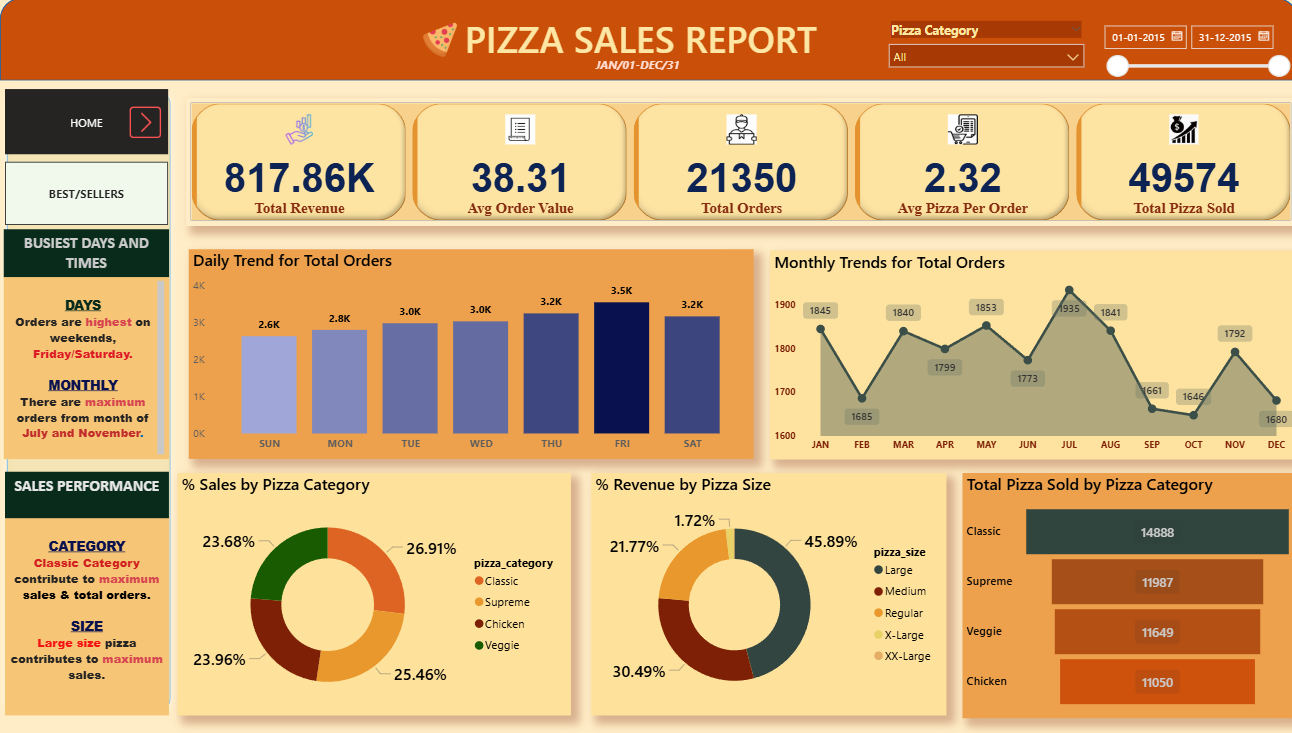

This screenshot's page, from the dashboard's own definition file:
{"tool":"powerbi","page":{"name":"HOME","canvas":[1519,862],"ordinal":0},"visuals":[{"type":"shape","box":[0,0,1519.6,96.6],"z":0},{"type":"shape","box":[0,103.9,207.9,736.4],"z":1000},{"type":"cardVisual","fields":{"Data":["pizza_sales.Total_Revenue","pizza_sales.Avg_Order_Value","pizza_sales.Total_Orders","pizza_sales.Avg_Pizza_Per_Order","pizza_sales.Total_pizza_sold"]},"box":[218.1,117.1,1301.5,149.3],"z":2000},{"type":"textbox","box":[346.4,12.6,807.4,102],"z":3000},{"type":"textbox","box":[692.9,64.3,114.5,32.1],"z":4000},{"type":"image","box":[480.5,23.7,69.8,51.7],"z":5000},{"type":"shape","box":[247.4,289.9,612,194.7],"z":6000},{"type":"columnChart","title":"Daily Trend for Total Orders","fields":{"Category":["pizza_sales.Order Day"],"Y":["pizza_sales.Total_Orders"]},"box":[221.1,294.3,661.7,246],"z":7000},{"type":"areaChart","title":"Monthly Trends for Total Orders","fields":{"Category":["pizza_sales.Order Month"],"Y":["pizza_sales.Total_Orders"]},"box":[901.8,295.7,617.8,244.5],"z":9000},{"type":"shape","box":[693.9,557.8,415.8,282.6],"z":10000},{"type":"shape","box":[1127.3,556.3,392.4,291.3],"z":12000},{"type":"shape","box":[207.9,557.8,450.9,282.6],"z":13000},{"type":"donutChart","title":"% Sales by Pizza Category","fields":{"Category":["pizza_sales.pizza_category"],"Y":["pizza_sales.Total_Revenue"]},"box":[207.9,556.3,461.2,284],"z":14000},{"type":"donutChart","title":"% Revenue by Pizza Size","fields":{"Category":["pizza_sales.pizza_size"],"Y":["pizza_sales.Total_Revenue"]},"box":[692.5,556.3,415.8,284],"z":15000},{"type":"funnel","title":"Total Pizza Sold by Pizza Category","fields":{"Category":["pizza_sales.pizza_category"],"Y":["pizza_sales.Total_pizza_sold"]},"box":[1127.3,556.3,392.4,286.9],"z":16000},{"type":"textbox","box":[4.4,326.5,193.2,213.7],"z":17000},{"type":"textbox","box":[4.4,270.8,193.2,55.6],"z":18000},{"type":"textbox","box":[5.9,609,191.8,231.3],"z":19000},{"type":"slicer","fields":{"Values":["pizza_sales.pizza_category"]},"box":[1030.7,22,248.9,68.8],"z":20000},{"type":"slicer","fields":{"Values":["pizza_sales.order_date"]},"box":[1281,22,238.6,84.9],"z":21000},{"type":"pageNavigator","box":[5.9,106.9,191.8,76.1],"z":22000},{"type":"pageNavigator","box":[5.9,191.8,191.8,74.7],"z":23000},{"type":"image","box":[143.5,115.7,54.2,60],"z":24000},{"type":"textbox","box":[5.9,554.9,191.8,54.2],"z":25500}]}

Visuals, with their boxes in screenshot pixels (x1, y1, x2, y2), scaled from the page's 1519x862 canvas onto the 1292x733 screenshot:
shape: select_region(0, 0, 1291, 82)
shape: select_region(0, 88, 177, 715)
cardVisual - pizza_sales.Total_Revenue x pizza_sales.Avg_Order_Value: select_region(186, 100, 1291, 227)
textbox: select_region(295, 11, 981, 97)
textbox: select_region(589, 55, 687, 82)
image: select_region(409, 20, 468, 64)
shape: select_region(210, 247, 731, 412)
"Daily Trend for Total Orders" columnChart: select_region(188, 250, 751, 459)
"Monthly Trends for Total Orders" areaChart: select_region(767, 251, 1291, 459)
shape: select_region(590, 474, 944, 715)
shape: select_region(959, 473, 1291, 721)
shape: select_region(177, 474, 560, 715)
"% Sales by Pizza Category" donutChart: select_region(177, 473, 569, 715)
"% Revenue by Pizza Size" donutChart: select_region(589, 473, 943, 715)
"Total Pizza Sold by Pizza Category" funnel: select_region(959, 473, 1291, 717)
textbox: select_region(4, 278, 168, 459)
textbox: select_region(4, 230, 168, 278)
textbox: select_region(5, 518, 168, 715)
slicer - pizza_sales.pizza_category: select_region(877, 19, 1088, 77)
slicer - pizza_sales.order_date: select_region(1090, 19, 1291, 91)
pageNavigator: select_region(5, 91, 168, 156)
pageNavigator: select_region(5, 163, 168, 227)
image: select_region(122, 98, 168, 149)
textbox: select_region(5, 472, 168, 518)
